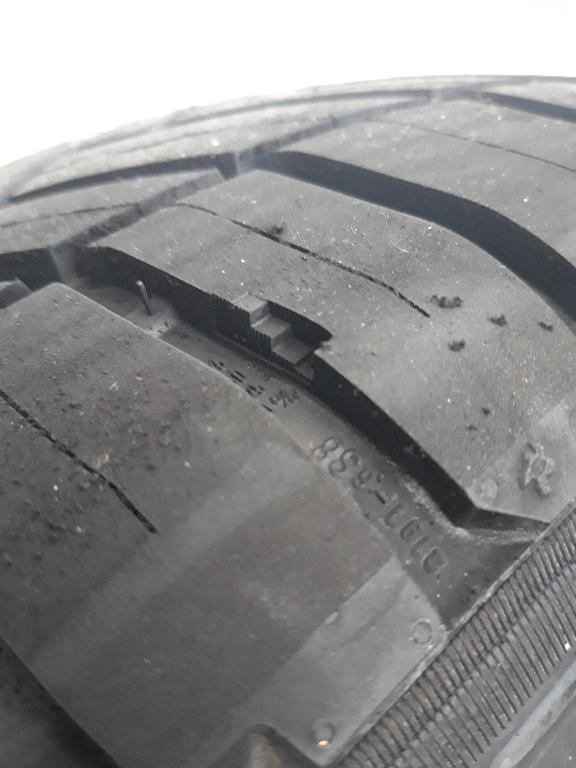temoin:75: (224, 288, 341, 393)
